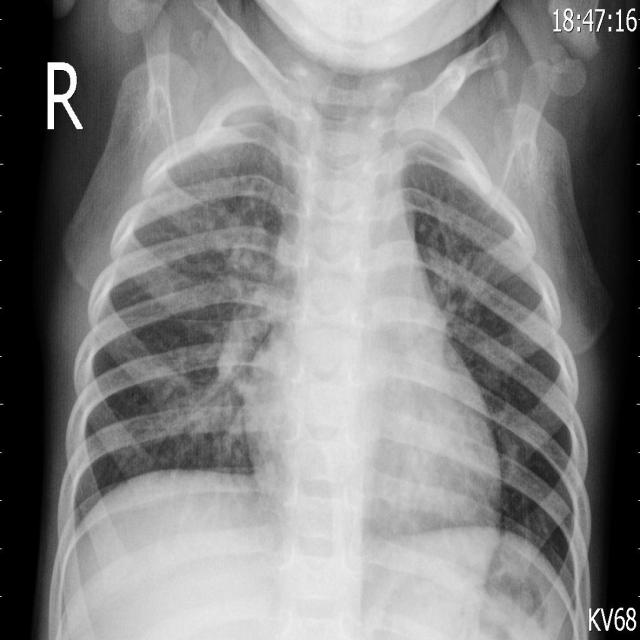low-pneumonia: (176, 220, 275, 460), (193, 92, 272, 169)
